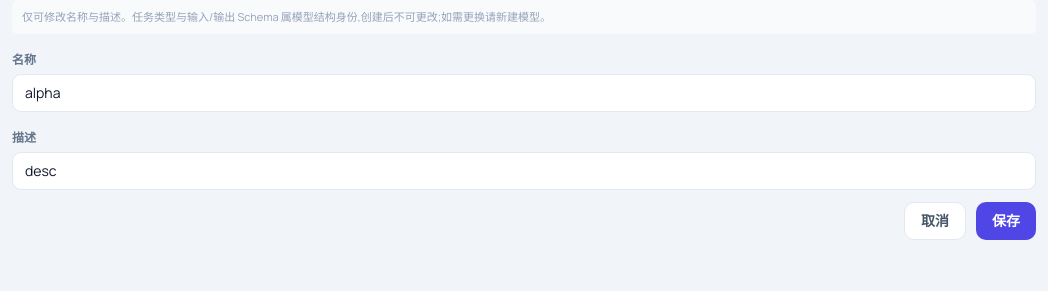
EditModelForm › 名称为空 → 拦截,不提交
Clear the field with test id "edit-name" at (524,93), box left=12, top=74, right=1036, bottom=112
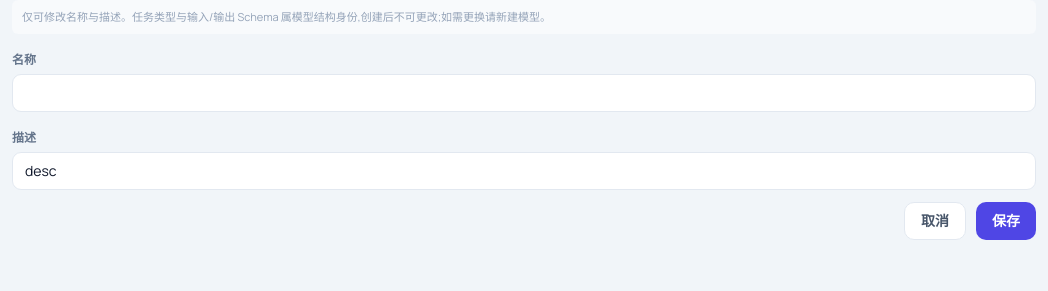
Click the button with test id "edit-save" at (1006,221), box left=976, top=202, right=1036, bottom=240
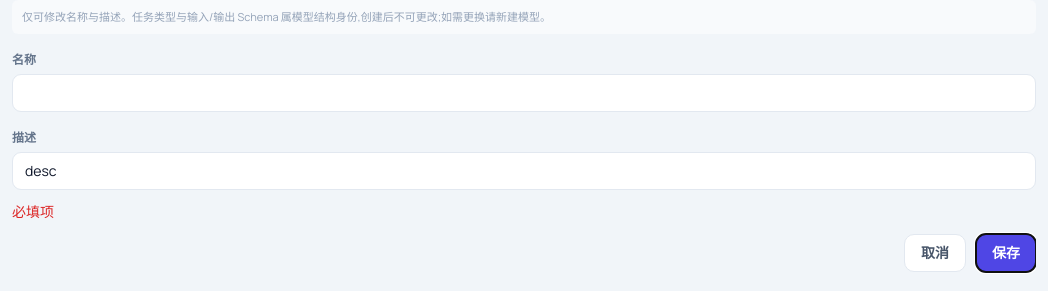
Expected: the text "必填项" is shown, left=12, top=202, right=54, bottom=221
